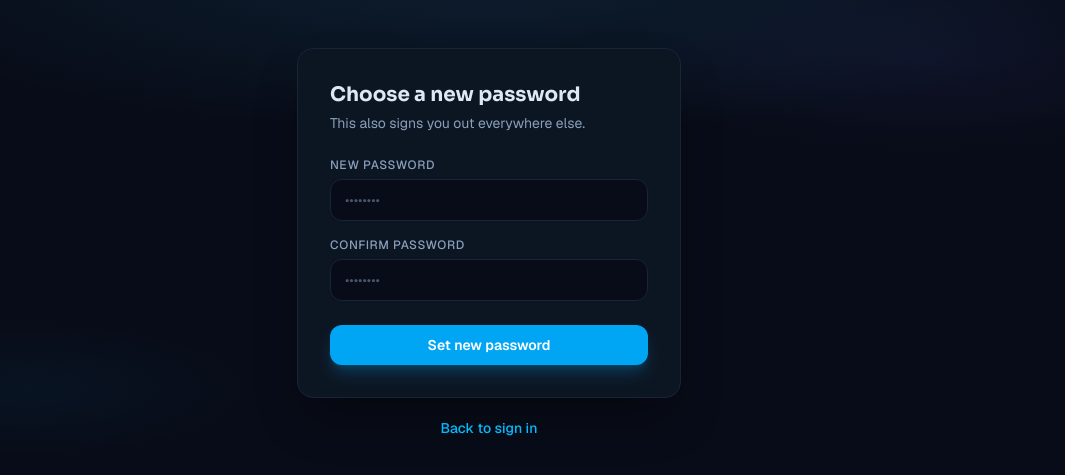
Test case: ResetPasswordPage › refuses a password under the API minimum
Type "short" into the password field labelled "New password".
click(489, 200); type("short")  # box [330,179,648,221]
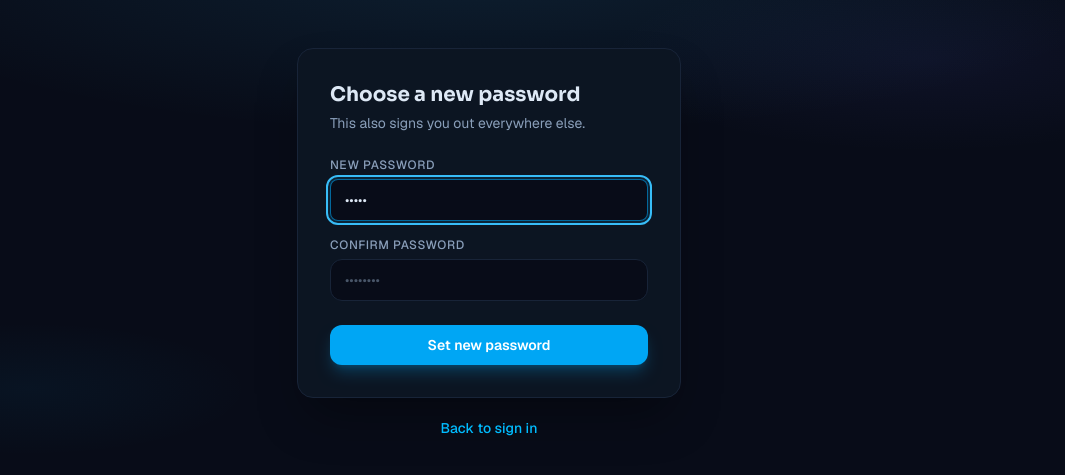
Type "short" into the password field labelled "Confirm password".
click(489, 280); type("short")  # box [330,259,648,301]
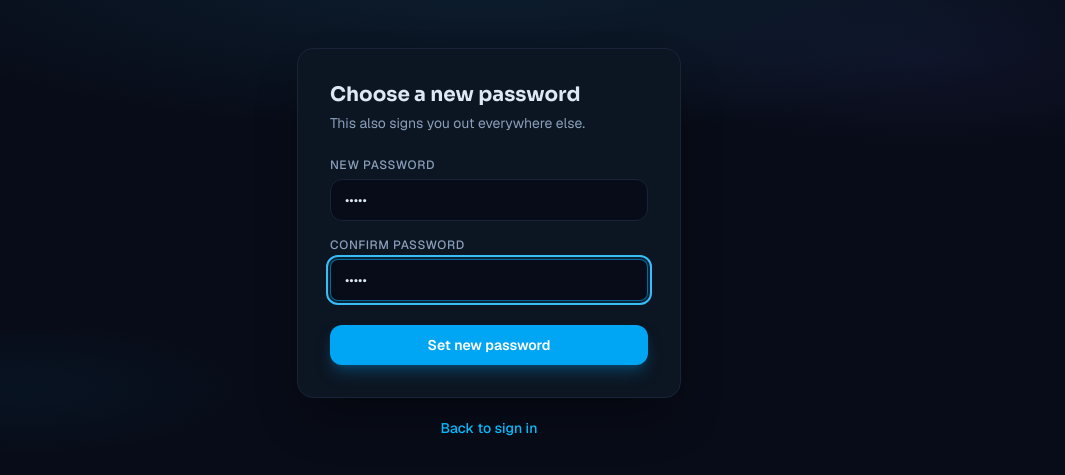
Click the button "Set new password".
click(489, 345)  # box [330,325,648,365]
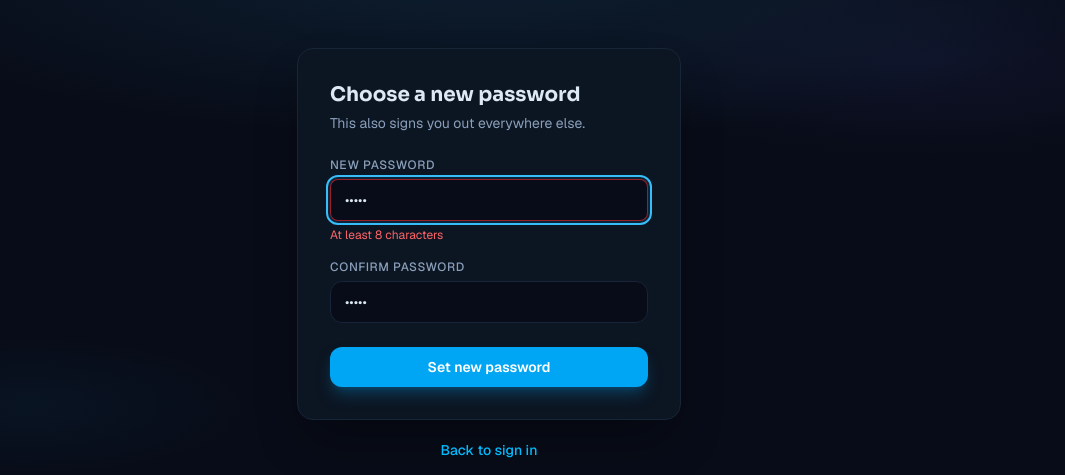
Now the text "At least 8 characters" is shown, box [330,227,443,243]
